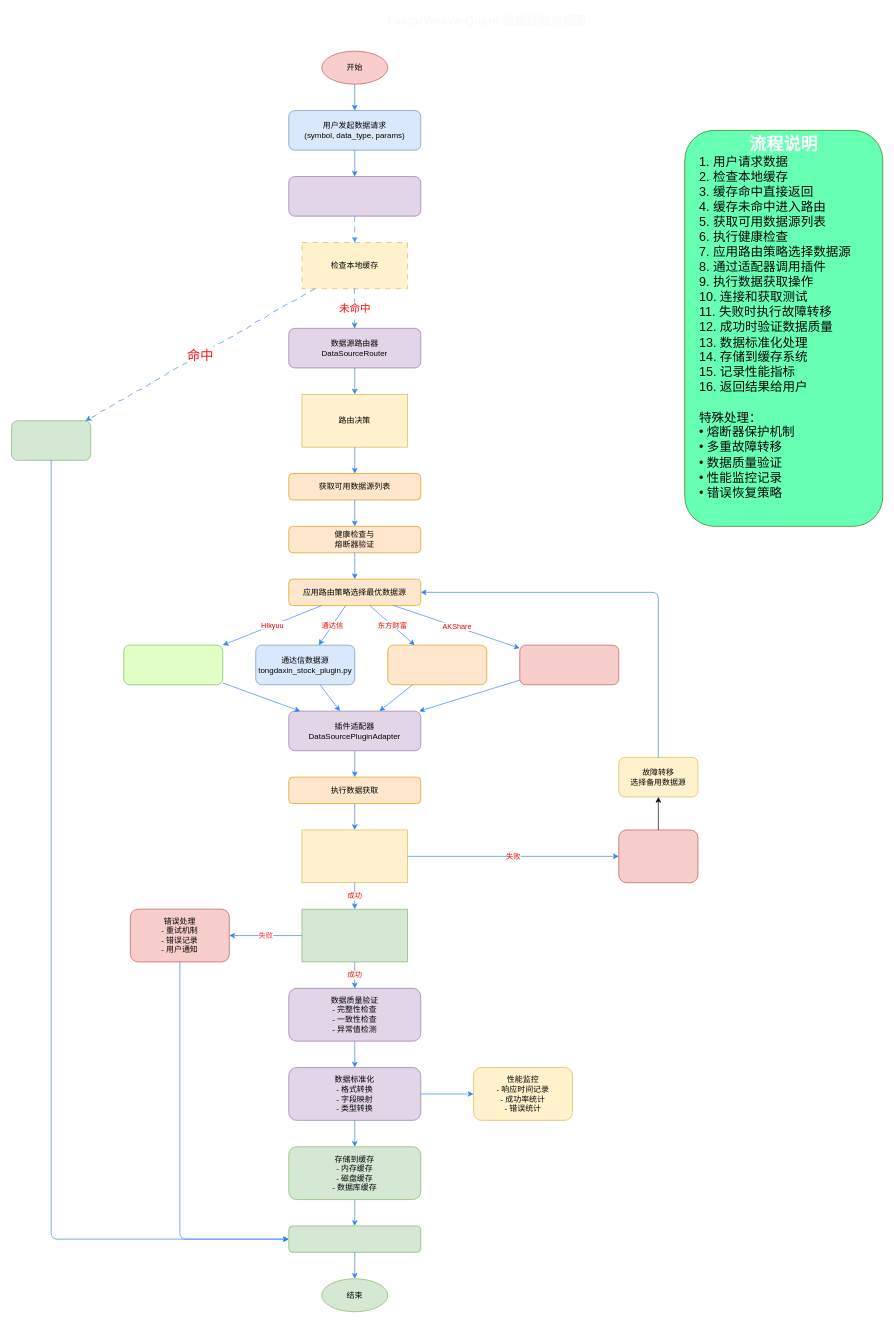
This 894x1323 diagram has some shape labels left out. Each missing label, with the box of its shape:
AKShare数据源 akshare_data_source.py: (519, 644, 619, 685)
HIkyuu数据源 hikyuu_data_plugin.py: (123, 644, 223, 685)
东方财富数据源 eastmoney_plugin.py: (387, 644, 487, 685)
数据管理中心 DataManagementCenter: (288, 176, 421, 216)
数据获取成功: (301, 908, 408, 962)
缓存命中 返回缓存数据: (11, 420, 91, 460)
返回数据给用户: (288, 1225, 421, 1252)
连接失败 记录错误 熔断器动作: (618, 829, 698, 883)
连接测试: (301, 829, 408, 883)
